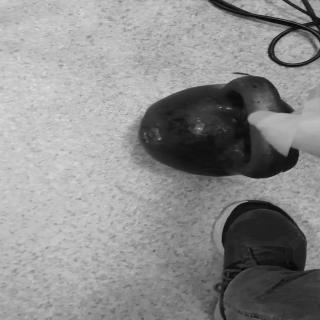kettlebell: (135, 71, 306, 182)
